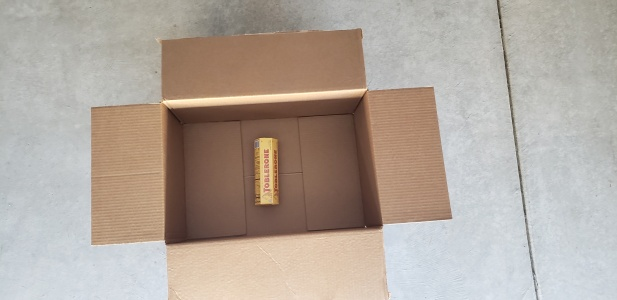innerbox: (161, 93, 381, 234)
outerbox: (90, 34, 453, 300)
product: (253, 139, 281, 203)
